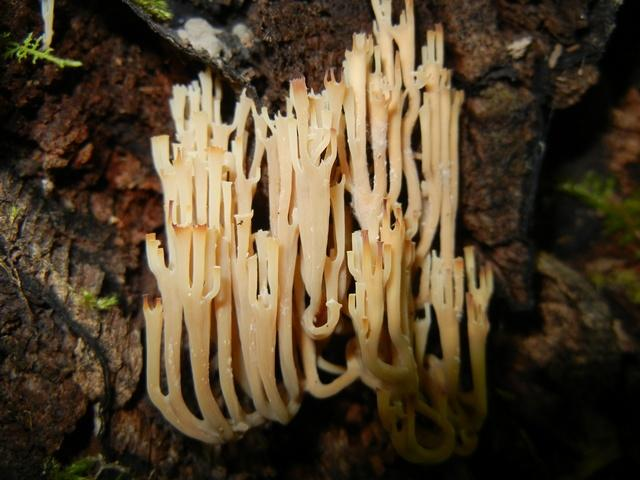edible_mushroom: (140, 0, 495, 464)
